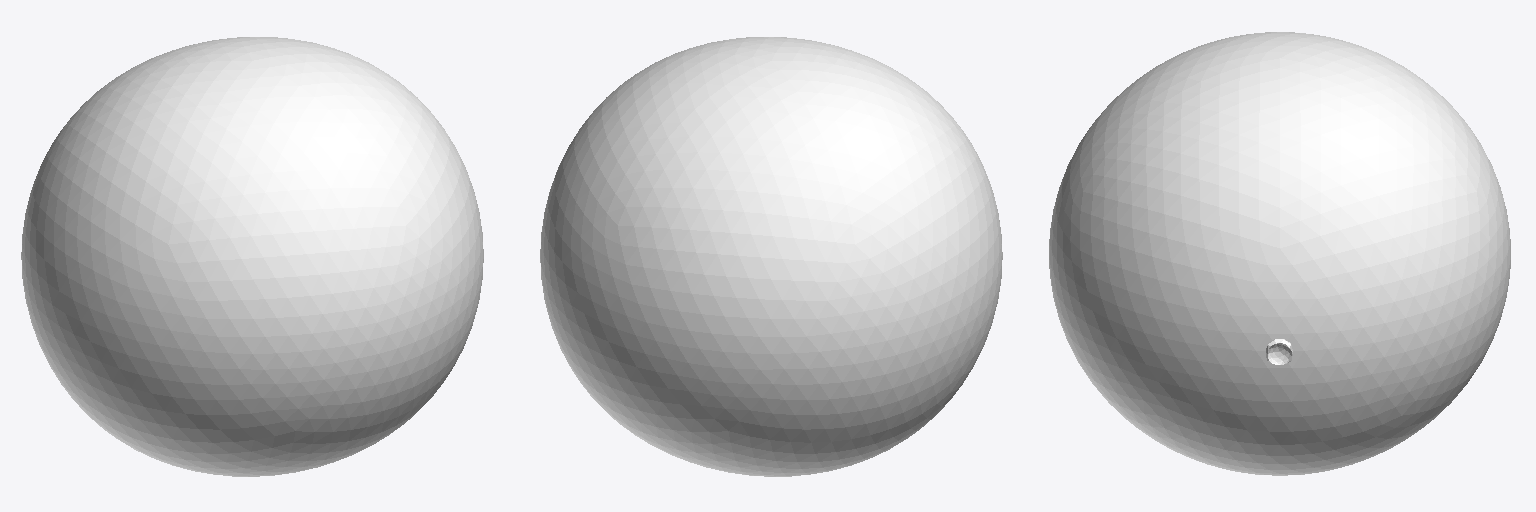
File: SHAR.obj
The picture shows the model from 3 angles: view 1: azimuth 30°, elevation 25°; view 2: azimuth 150°, elevation 25°; view 3: azimuth 270°, elevation 25°; orthographic projection.
Parts seen in each view (by area): view 1: Cylinder002; view 2: Cylinder002; view 3: Cylinder002.
Part boxes in pixels (bbox=[...]): Cylinder002: bbox=[21, 37, 483, 476]; Cylinder002: bbox=[540, 37, 1002, 476]; Cylinder002: bbox=[1049, 32, 1510, 475].
Bounding box in the file's own units: 179 × 165 × 176.